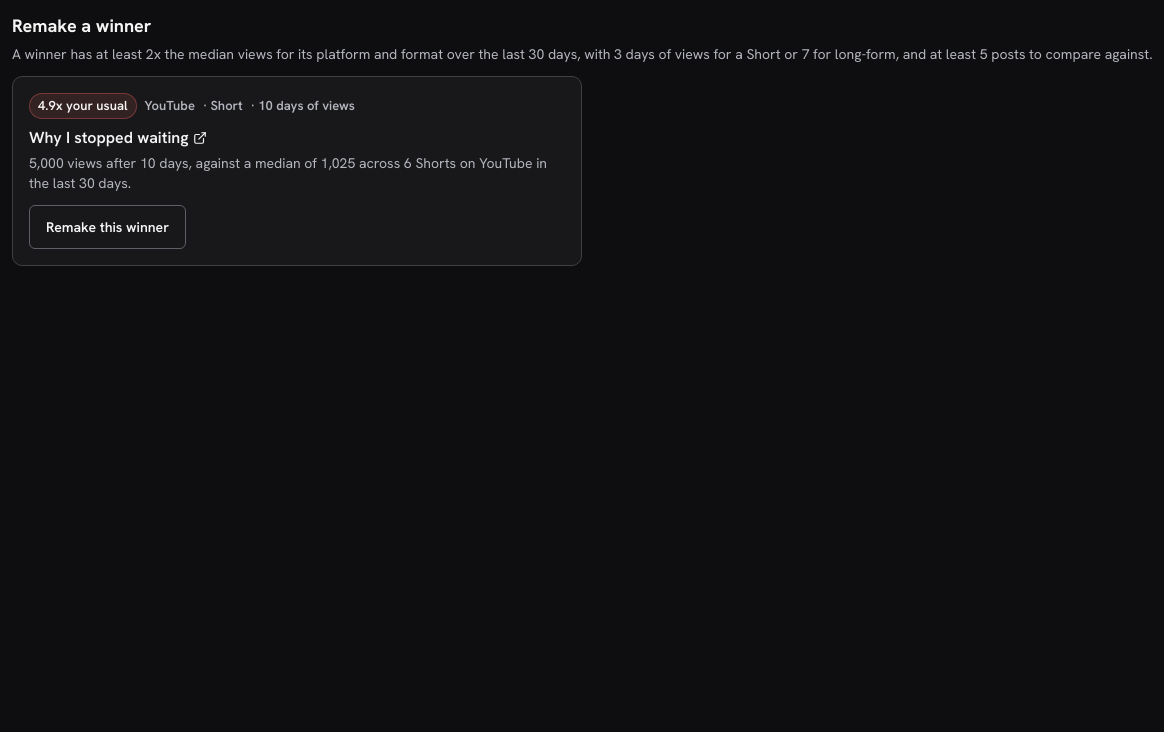
winners panel: remake › waits while a remake is being created
Click the button "Remake this winner": x=108, y=226 [29, 204, 186, 248]
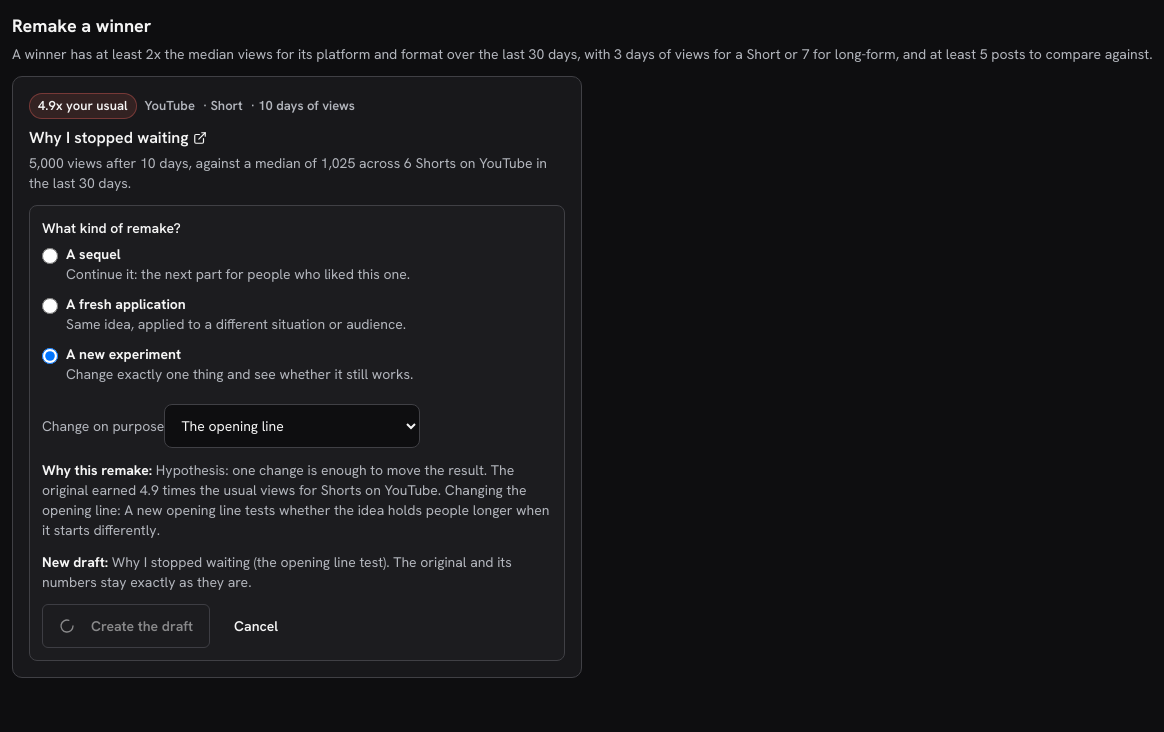
Expected: the button "Create the draft" is disabled, [42, 604, 210, 648]
